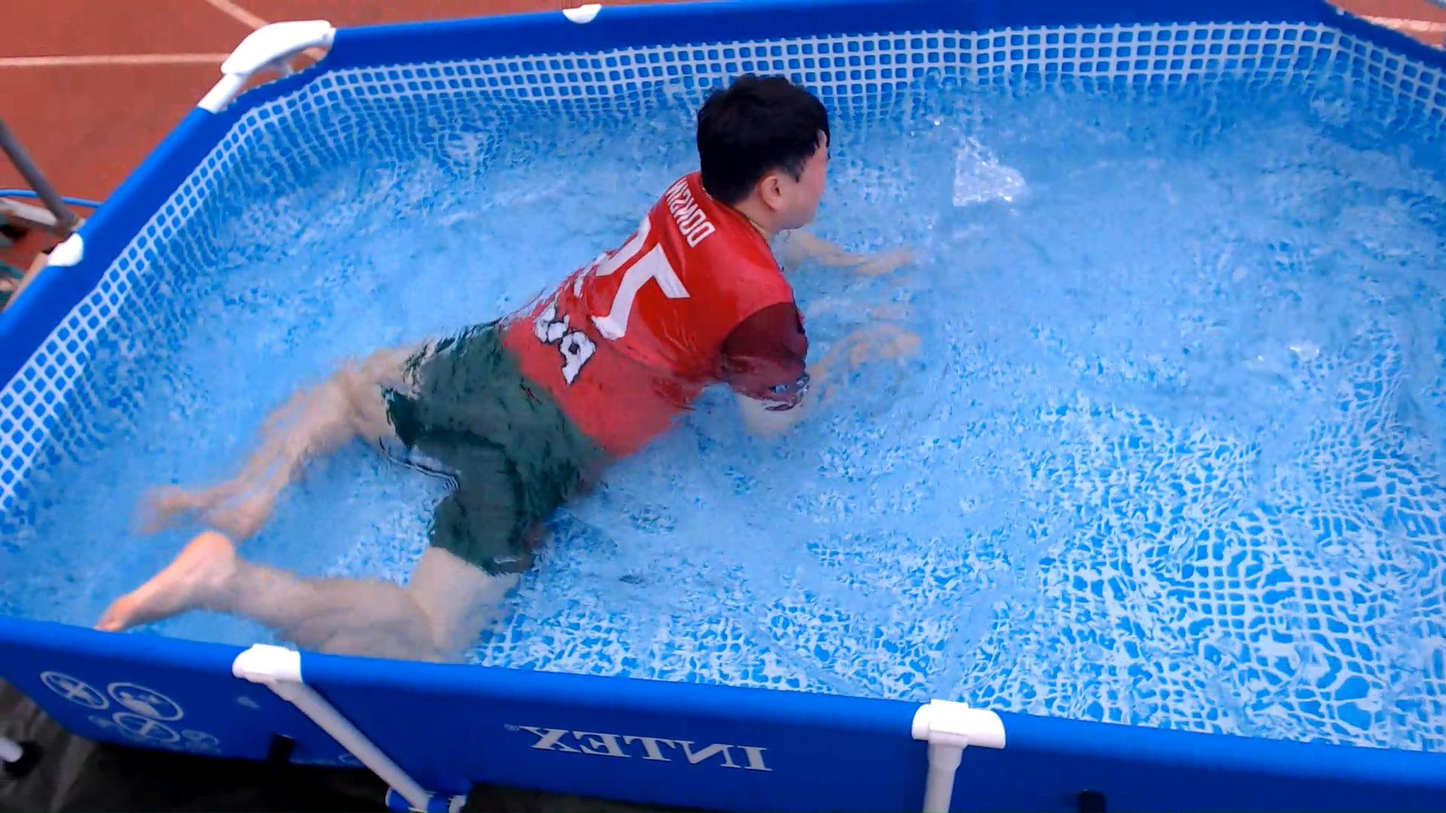Drowning: (99, 77, 997, 653)
